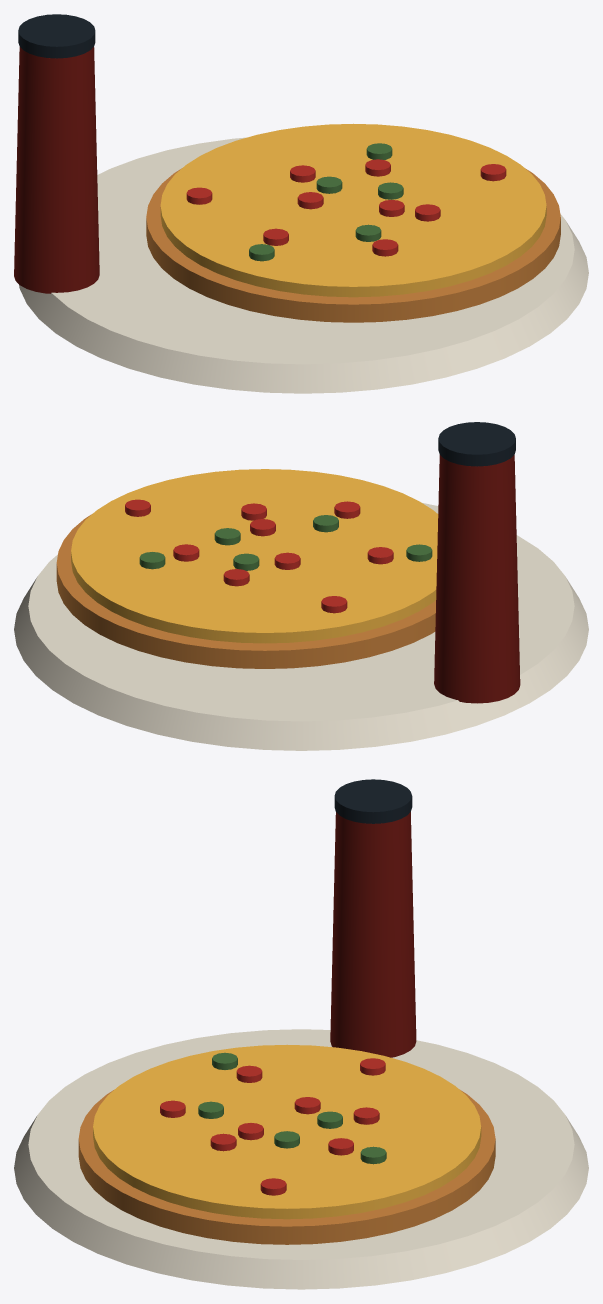
The model's file is campaign-22.glb.
3 views of the same model, one above another, from view 1: azimuth 30°, elevation 25°; view 2: azimuth 150°, elevation 25°; view 3: azimuth 270°, elevation 25° (orthographic).
Bounding box in the file's own units: 0.4 × 0.2065 × 0.4.
